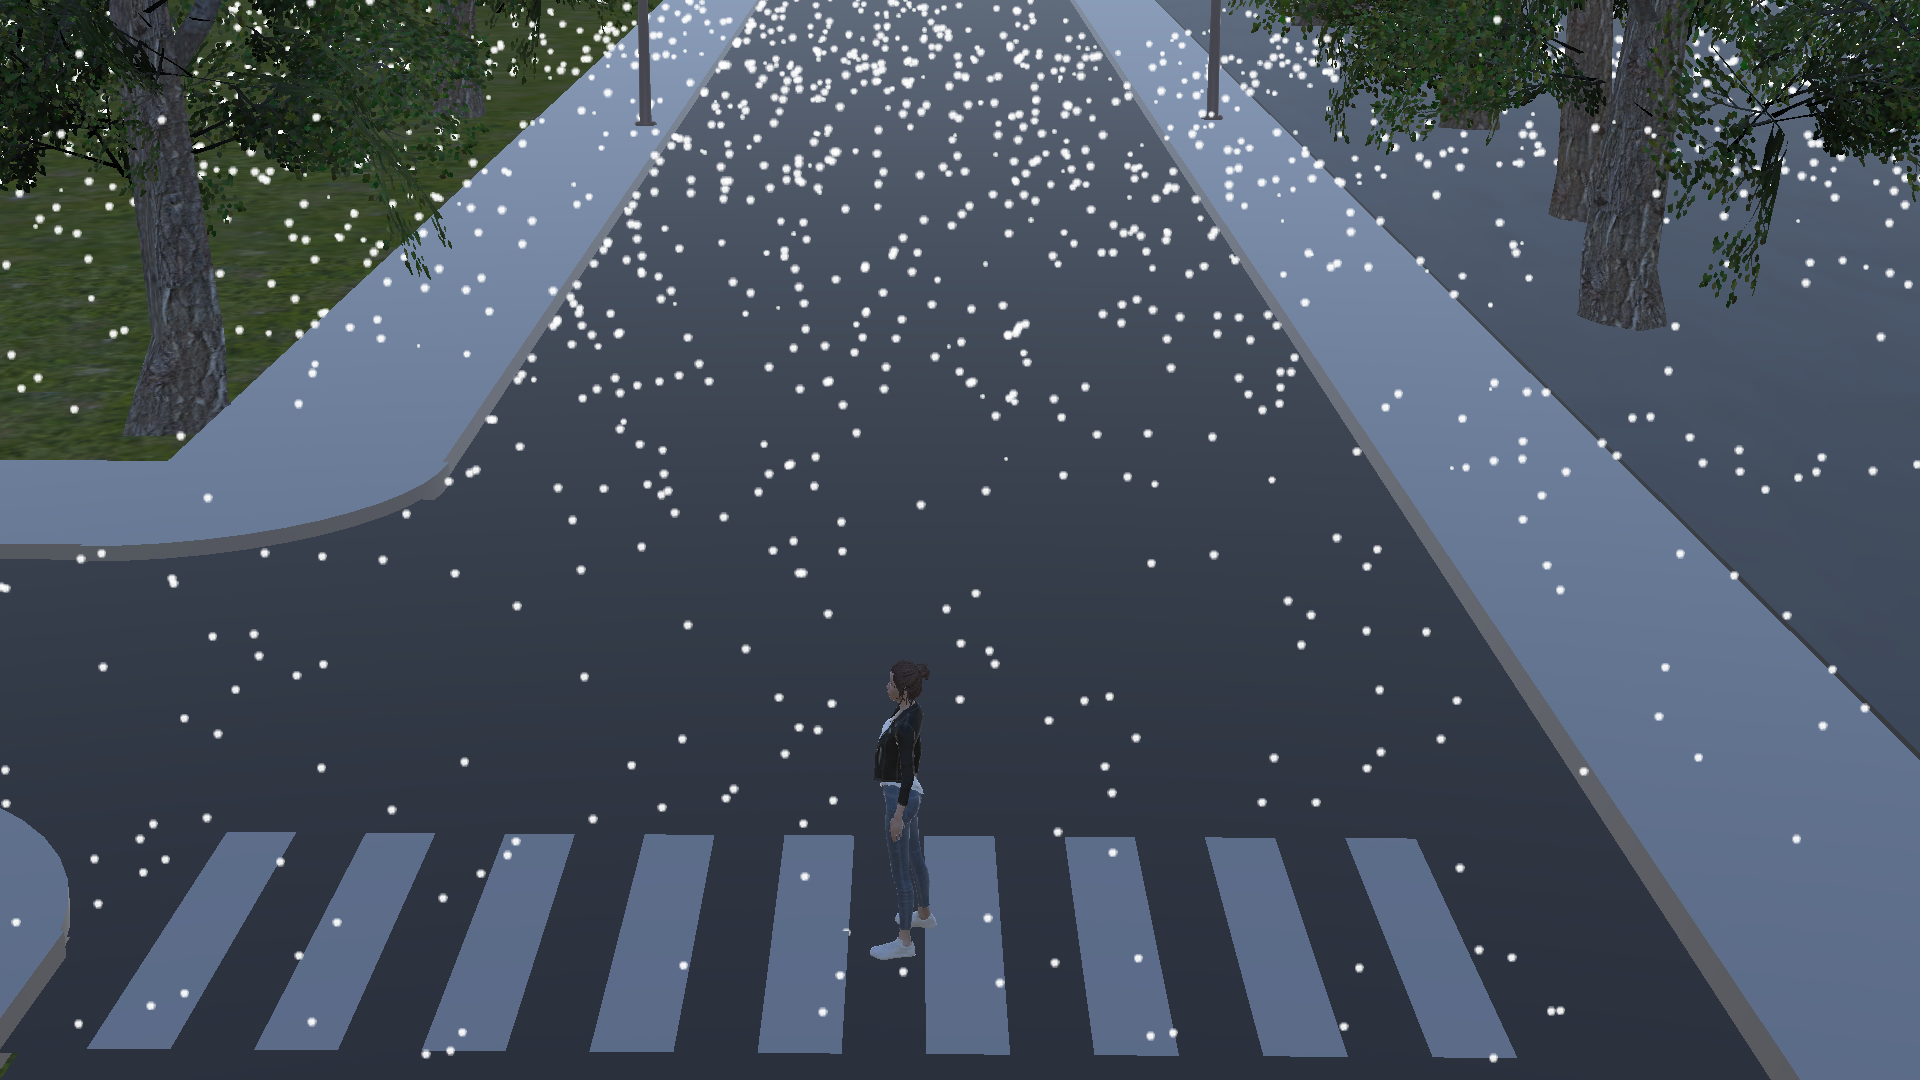pedestrian: (848, 646, 950, 974)
